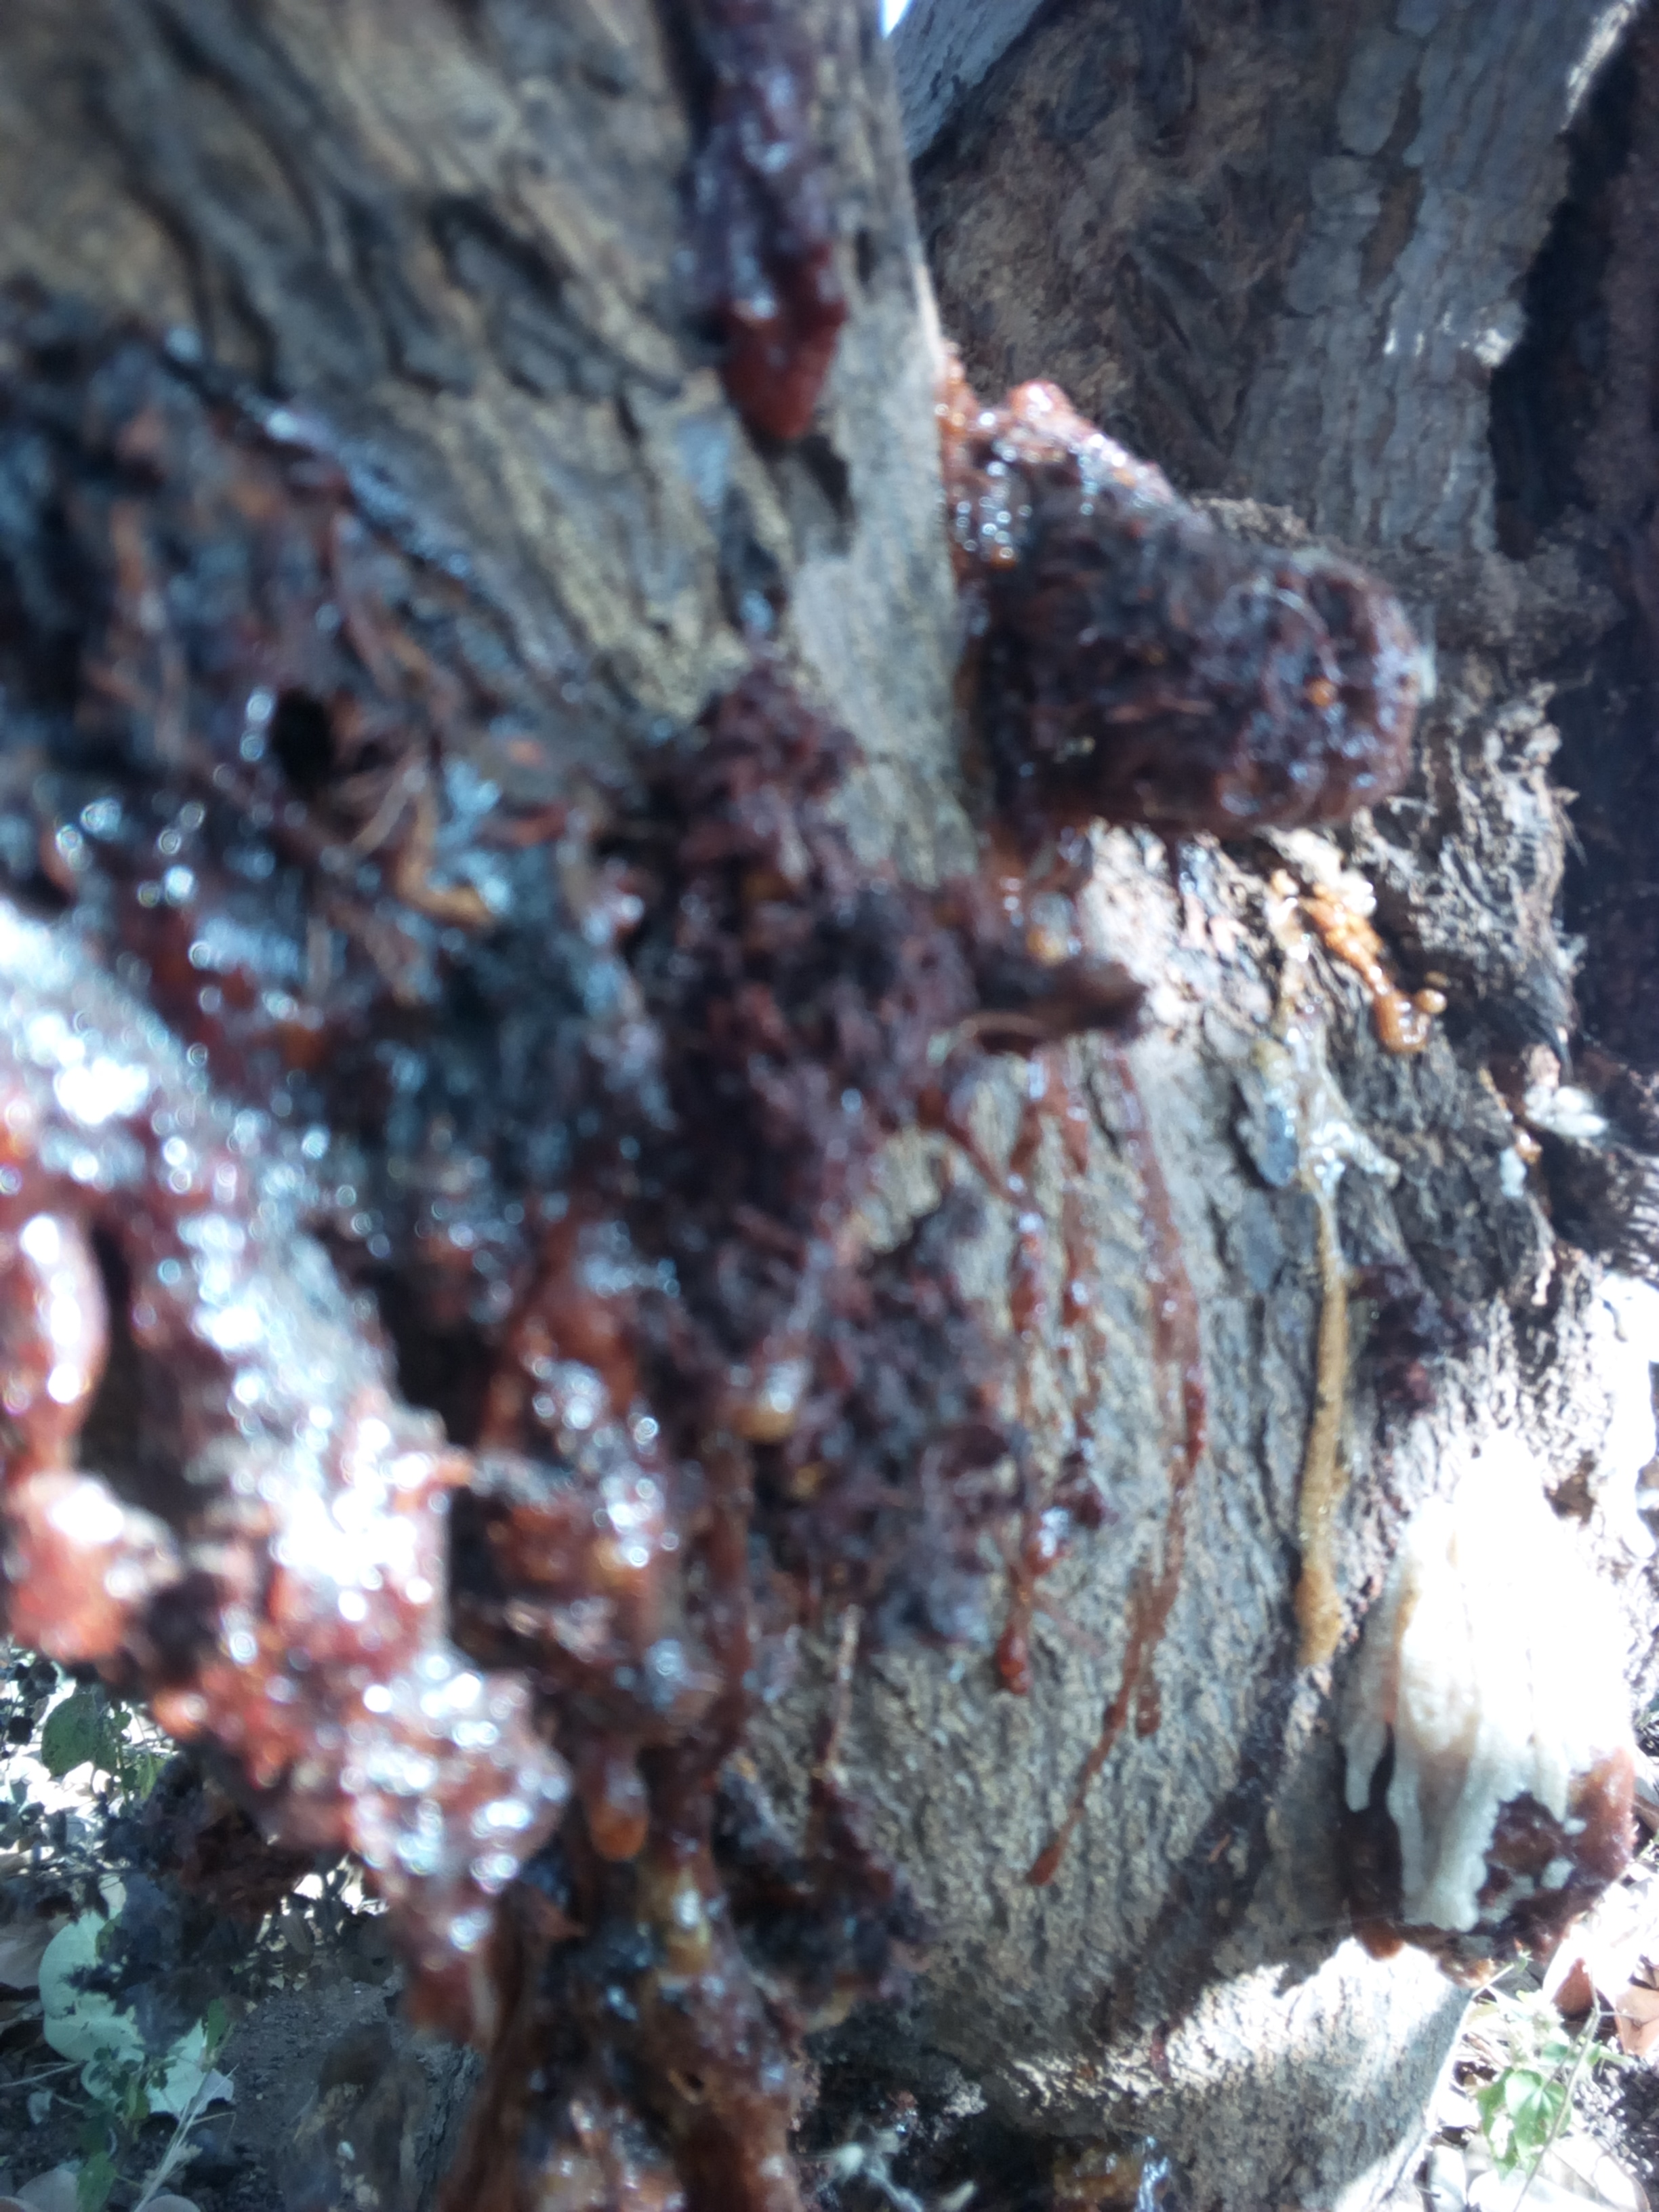Gommose: (0, 697, 1030, 1879), (988, 392, 1439, 845), (667, 9, 873, 442)
